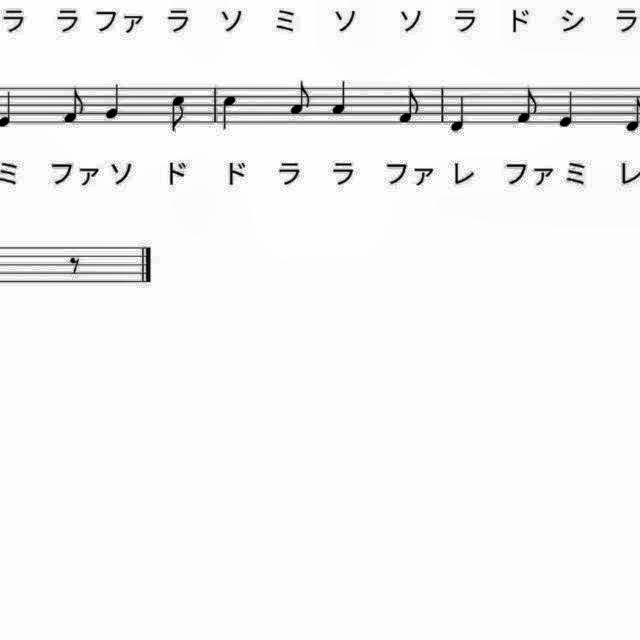Eighth-note: (512, 82, 544, 128), (59, 82, 90, 128), (396, 82, 426, 126), (284, 76, 314, 120), (166, 90, 194, 134)
Eighth-rest: (65, 251, 87, 279)
Quarter-note: (554, 86, 582, 132), (446, 92, 474, 136), (216, 89, 242, 133), (327, 78, 353, 120), (102, 80, 126, 124)
